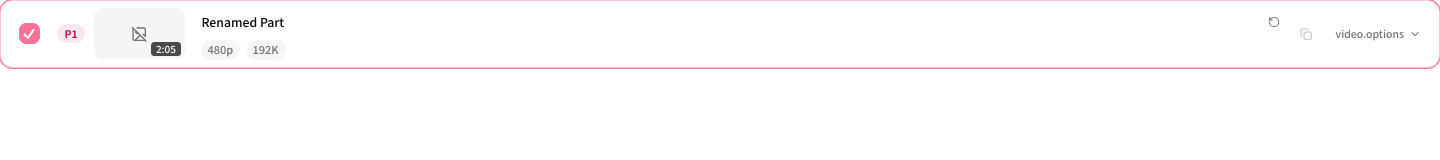
it: VideoPartCard › resets an edited title back to the default and saves it
This screenshot has width=1440, height=160.
Click the button named "video.reset_title".
click(1274, 22)  # box [1264,11,1285,32]
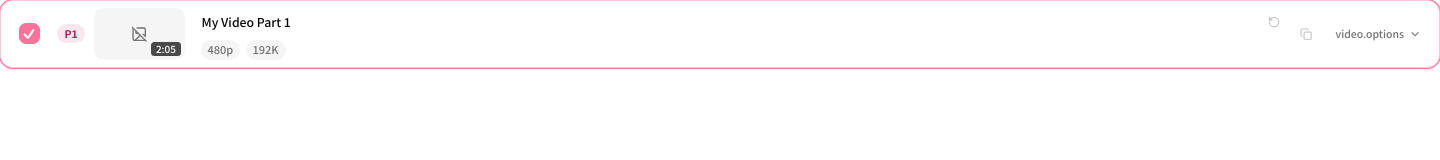
Check: the field showing "My Video Part 1" is shown, box [194,8,1260,36]
Check: the button named "video.reset_title" is disabled, box [1264,11,1285,32]
